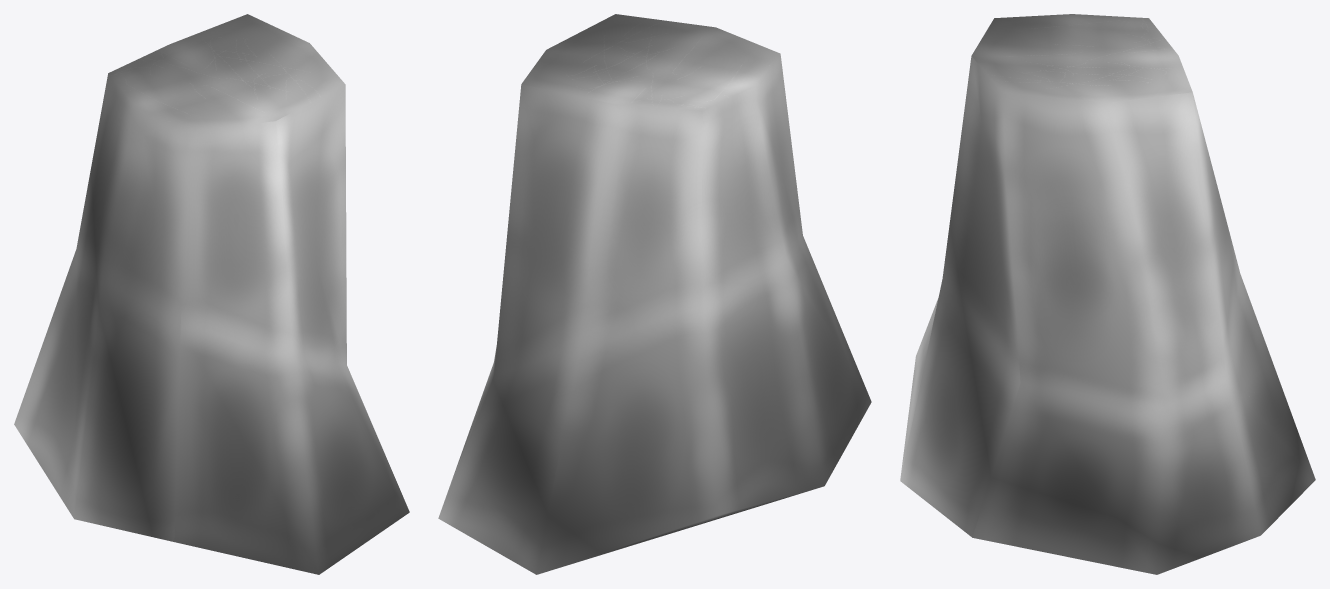
File: rock2.fbx
3 renders of one model, left to right at view 1: azimuth 30°, elevation 25°; view 2: azimuth 150°, elevation 25°; view 3: azimuth 270°, elevation 25°, orthographic.
Parts seen in each view (by area): view 1: Cube; view 2: Cube; view 3: Cube.
Part boxes in pixels (x1=…): Cube: x1=14, y1=14, x2=409, y2=574; Cube: x1=438, y1=14, x2=871, y2=574; Cube: x1=900, y1=14, x2=1315, y2=574.
Bounding box in the file's own units: 5.72 × 7.96 × 6.69.
